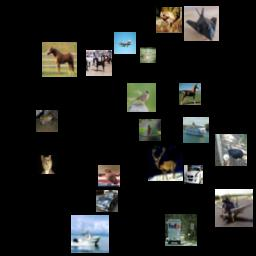airplane: (215, 189, 253, 227), (184, 6, 219, 41), (114, 32, 136, 54)
automobile: (96, 190, 118, 212), (184, 165, 203, 184)
bird: (215, 134, 247, 166), (127, 83, 156, 112), (98, 165, 120, 187), (139, 119, 161, 141)
cat: (38, 155, 57, 174)
deer: (148, 146, 183, 181), (140, 47, 156, 63)
frog: (156, 7, 182, 33), (36, 110, 58, 132)
ship: (71, 215, 109, 253), (183, 117, 209, 143)
truck: (165, 214, 197, 246)
